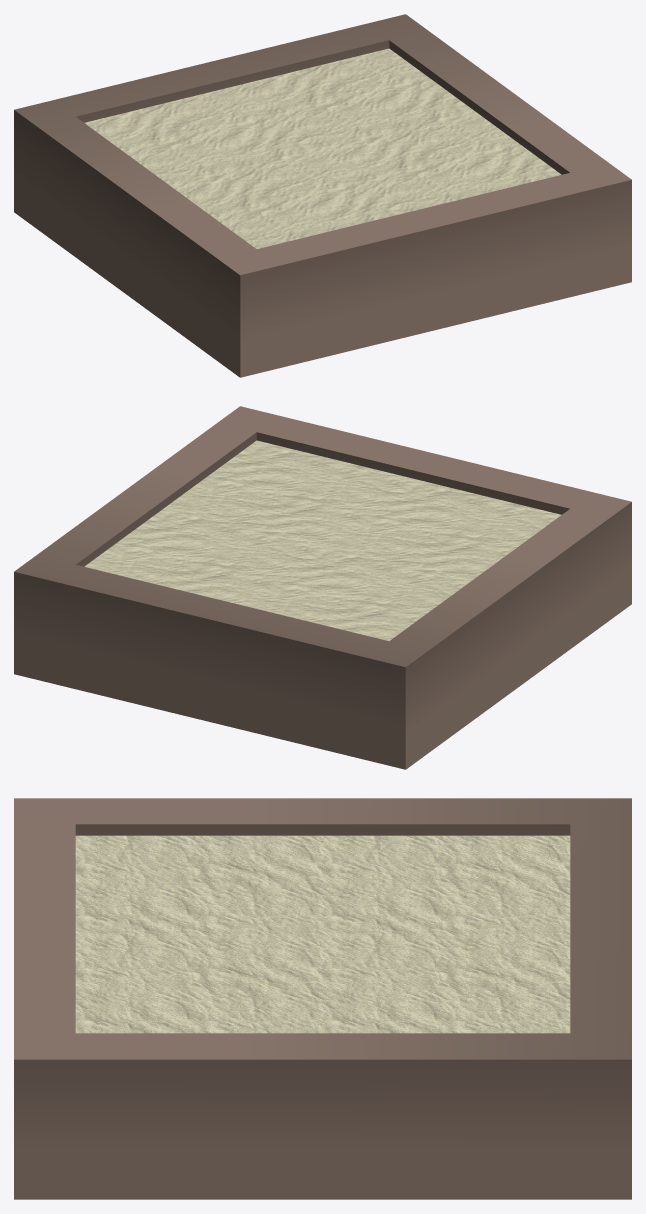
The model's file is TILE_009_Trasmutation.fbx.
3 views of the same model, one above another, from view 1: azimuth 30°, elevation 25°; view 2: azimuth 150°, elevation 25°; view 3: azimuth 270°, elevation 25° (orthographic). The views are drawn at different scales.
Parts seen in each view (by area): view 1: TILE_001_Trasmutation; view 2: TILE_001_Trasmutation; view 3: TILE_001_Trasmutation.
Boxes of the visible parts, x1,y1,x2,y2 form: TILE_001_Trasmutation: (14, 14, 631, 377); TILE_001_Trasmutation: (14, 406, 631, 769); TILE_001_Trasmutation: (14, 798, 631, 1199).
Bounding box in the file's own units: 98.43 × 24.61 × 98.43.
